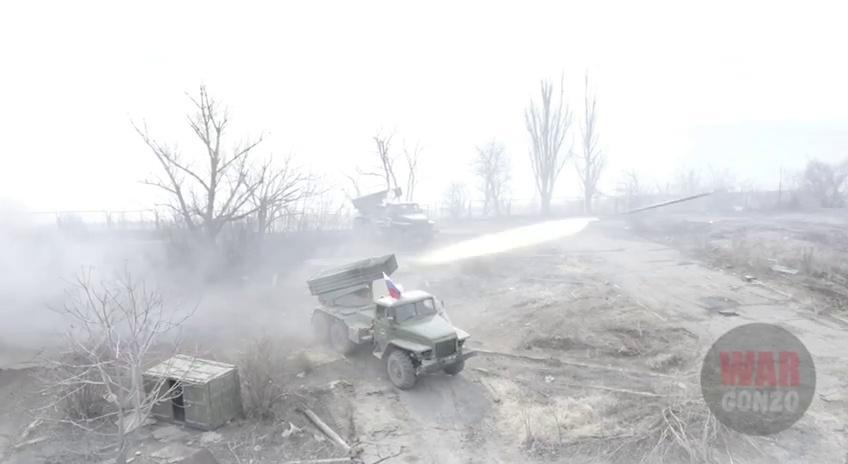rszo: (306, 253, 479, 390), (351, 186, 440, 248)
